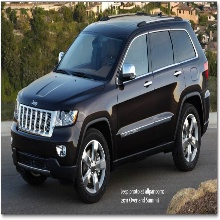no damage: (10, 14, 210, 204)
